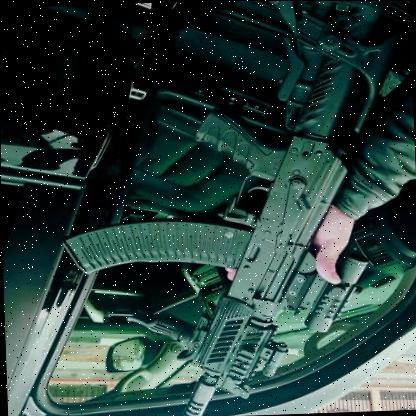rifle: (115, 4, 401, 416)
